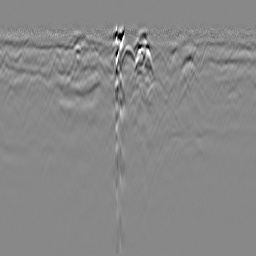cavity: (120, 43, 135, 65)
